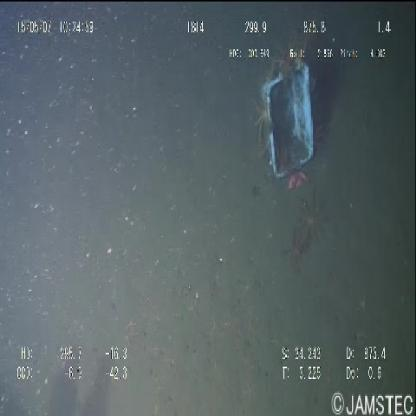Rác: (252, 42, 319, 183)
